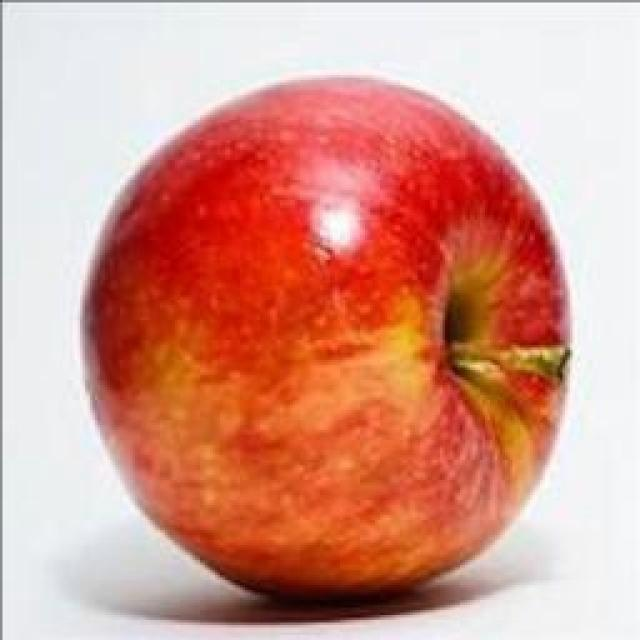Apple: (85, 78, 569, 598)
